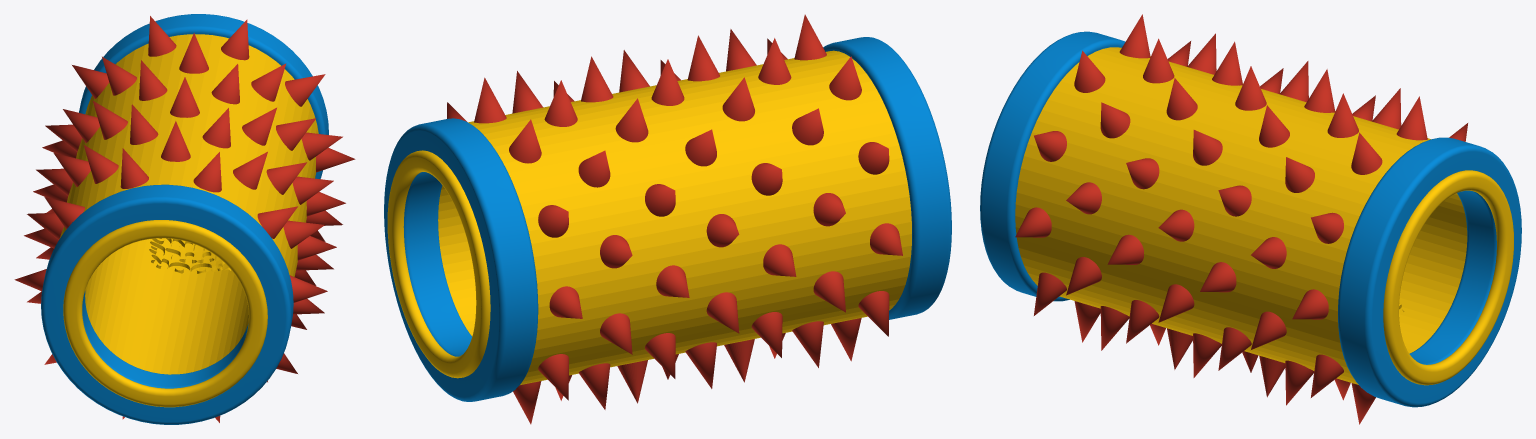
The model's file is orbit.glb.
The picture shows the model from 3 angles, left to right: view 1: azimuth 30°, elevation 25°; view 2: azimuth 150°, elevation 25°; view 3: azimuth 270°, elevation 25°; orthographic projection. The views are drawn at different scales.
Parts seen in each view (by area): view 1: orbit-part-001, orbit-part-002, orbit-part-003, orbit-part-004, orbit-part-053, orbit-part-009, orbit-part-029, orbit-part-036, orbit-part-046, orbit-part-018, orbit-part-054, orbit-part-064 (+34 smaller); view 2: orbit-part-001, orbit-part-004, orbit-part-002, orbit-part-005, orbit-part-025, orbit-part-045, orbit-part-008, orbit-part-028, orbit-part-042, orbit-part-060, orbit-part-063, orbit-part-053 (+34 smaller); view 3: orbit-part-001, orbit-part-004, orbit-part-002, orbit-part-005, orbit-part-039, orbit-part-056, orbit-part-029, orbit-part-021, orbit-part-009, orbit-part-046, orbit-part-066, orbit-part-064 (+34 smaller).
Part boxes in pixels (x1,y1,x2,y2): orbit-part-001: [59, 34, 318, 374]; orbit-part-002: [41, 184, 293, 424]; orbit-part-003: [63, 220, 267, 407]; orbit-part-004: [79, 14, 328, 179]; orbit-part-053: [179, 33, 208, 73]; orbit-part-009: [193, 152, 221, 192]; orbit-part-029: [202, 108, 230, 148]; orbit-part-036: [170, 77, 199, 117]; orbit-part-046: [211, 64, 239, 104]; orbit-part-018: [161, 121, 190, 161]; orbit-part-054: [251, 63, 286, 101]; orbit-part-064: [221, 19, 249, 60]; orbit-part-001: [438, 50, 911, 384]; orbit-part-004: [384, 118, 538, 401]; orbit-part-002: [823, 37, 951, 319]; orbit-part-005: [387, 150, 490, 378]; orbit-part-025: [813, 271, 845, 312]; orbit-part-045: [615, 98, 648, 142]; orbit-part-008: [829, 56, 861, 100]; orbit-part-028: [722, 77, 754, 121]; orbit-part-042: [706, 292, 739, 333]; orbit-part-060: [600, 313, 632, 354]; orbit-part-063: [509, 119, 541, 163]; orbit-part-053: [544, 80, 577, 126]; orbit-part-001: [1015, 47, 1467, 384]; orbit-part-004: [1338, 137, 1521, 407]; orbit-part-002: [980, 31, 1125, 301]; orbit-part-005: [1383, 170, 1513, 385]; orbit-part-039: [1158, 284, 1194, 322]; orbit-part-056: [1251, 311, 1286, 349]; orbit-part-029: [1166, 78, 1197, 120]; orbit-part-021: [1066, 257, 1101, 295]; orbit-part-009: [1074, 50, 1105, 92]; orbit-part-046: [1259, 105, 1289, 147]; orbit-part-066: [1292, 289, 1328, 319]; orbit-part-064: [1351, 132, 1382, 174].
Bounding box in the file's own units: 2.72 × 1.88 × 3.
